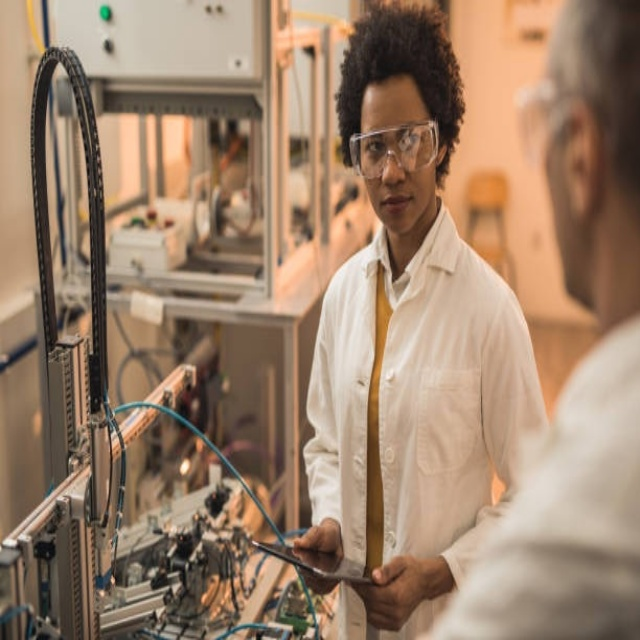Gafas: (512, 78, 596, 168), (351, 120, 440, 182)
Sin_guantes: (351, 556, 434, 634), (287, 524, 346, 597)
Sin_mascara: (374, 188, 415, 227)
